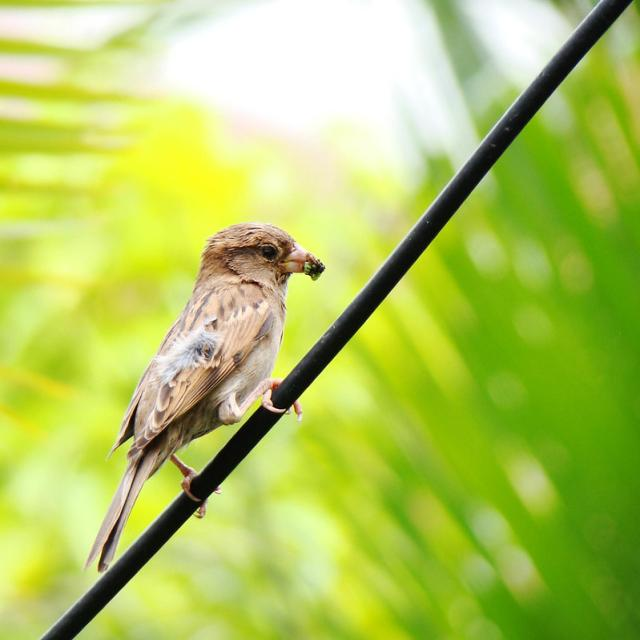bird: (84, 220, 347, 589)
